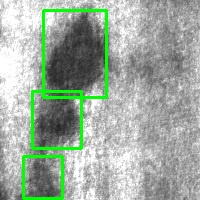patches: (43, 10, 106, 97), (32, 91, 81, 148), (23, 156, 62, 198)
